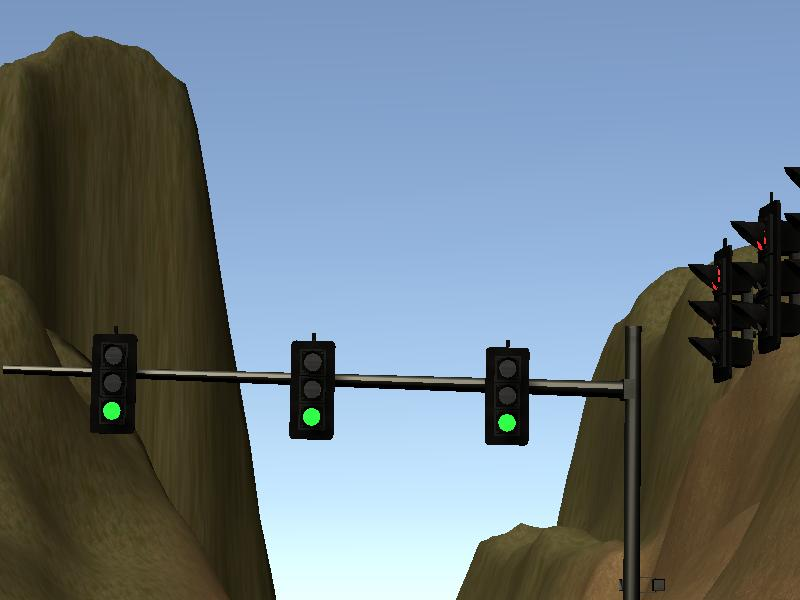green: (90, 331, 137, 434), (289, 339, 336, 442), (483, 346, 530, 449)
